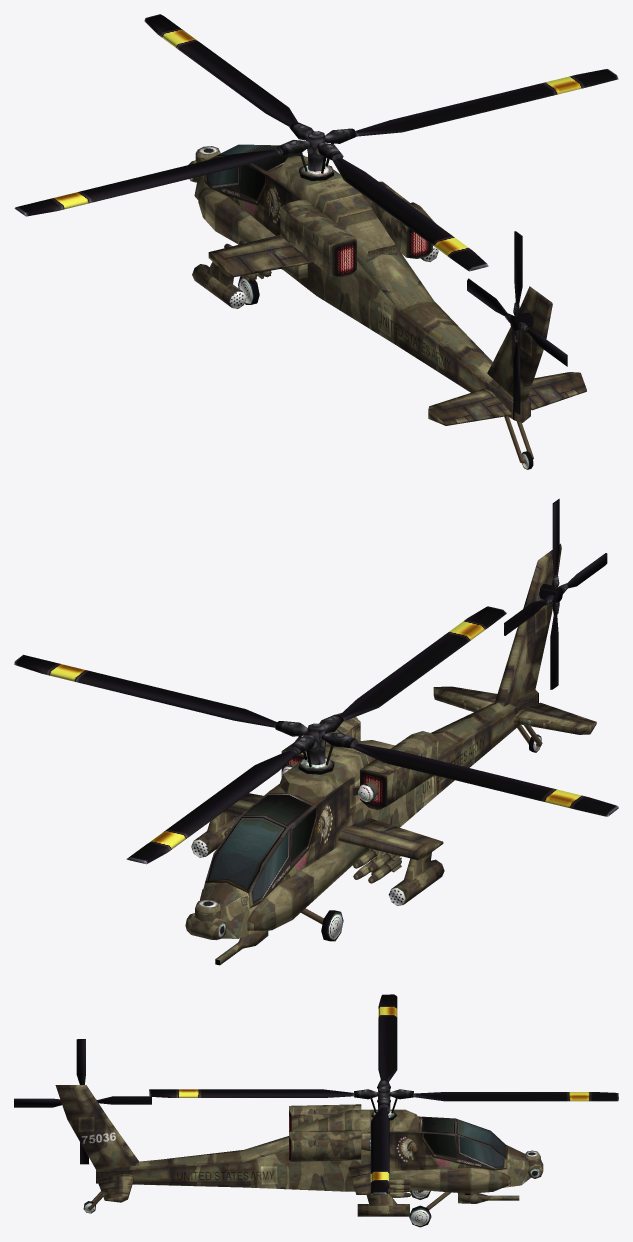
File: Helicopter.fbx
3 renders of one model, top to bottom at view 1: azimuth 30°, elevation 25°; view 2: azimuth 150°, elevation 25°; view 3: azimuth 270°, elevation 25°, orthographic. The views are drawn at different scales.
Parts seen in each view (by area): view 1: Helicopter Body, Helicopter Main Rotor, Helicopter Tail Rotor; view 2: Helicopter Body, Helicopter Main Rotor, Helicopter Tail Rotor; view 3: Helicopter Body, Helicopter Main Rotor, Helicopter Tail Rotor, Helicopter Cannon.
Part boxes in pixels (bbox=[...]): Helicopter Body: bbox=[188, 144, 586, 469]; Helicopter Main Rotor: bbox=[14, 14, 618, 271]; Helicopter Tail Rotor: bbox=[467, 231, 567, 414]; Helicopter Body: bbox=[185, 543, 596, 941]; Helicopter Main Rotor: bbox=[14, 606, 618, 864]; Helicopter Tail Rotor: bbox=[504, 498, 607, 689]; Helicopter Body: bbox=[55, 1085, 543, 1227]; Helicopter Main Rotor: bbox=[149, 994, 618, 1194]; Helicopter Tail Rotor: bbox=[14, 1039, 151, 1164]; Helicopter Cannon: bbox=[458, 1193, 519, 1203].
Bounding box in the file's own units: 854 × 338 × 1100.
Materials: 1 (1 with a texture image).
